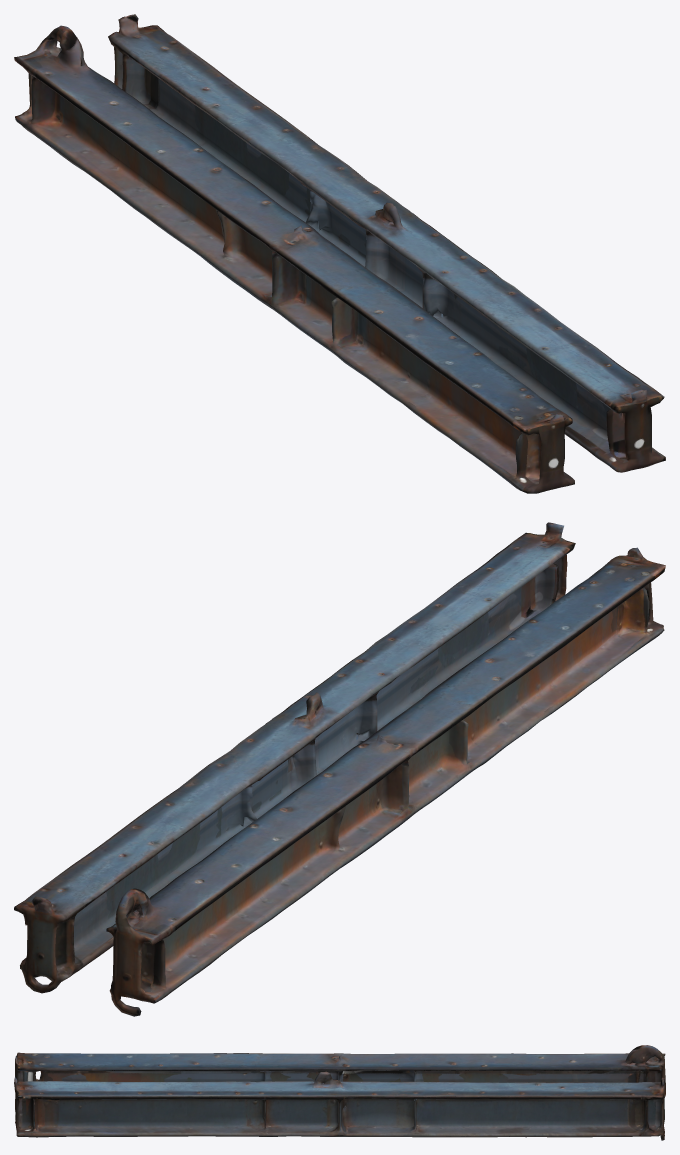
3 views of the same model, one above another, from view 1: azimuth 30°, elevation 25°; view 2: azimuth 150°, elevation 25°; view 3: azimuth 270°, elevation 25° (orthographic). The views are drawn at different scales.
Size of the model in its own units: 0.3184 by 0.2382 by 1.99.
Materials: 1 (1 with a texture image).
